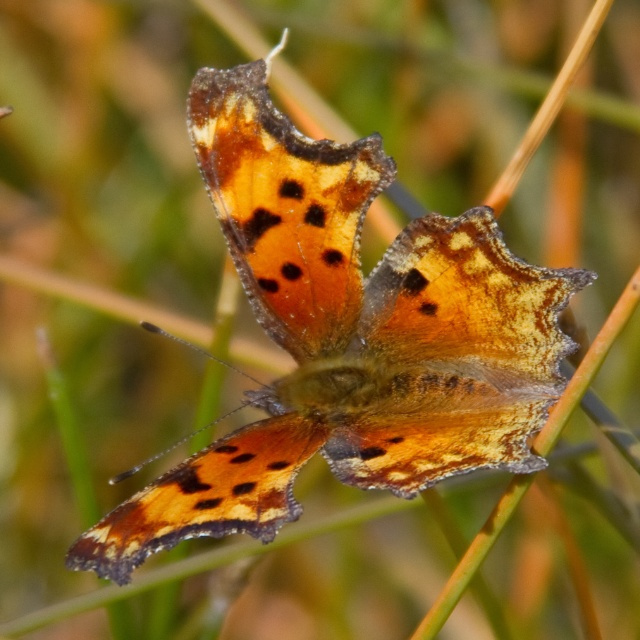Butterfly: (71, 93, 573, 592)
